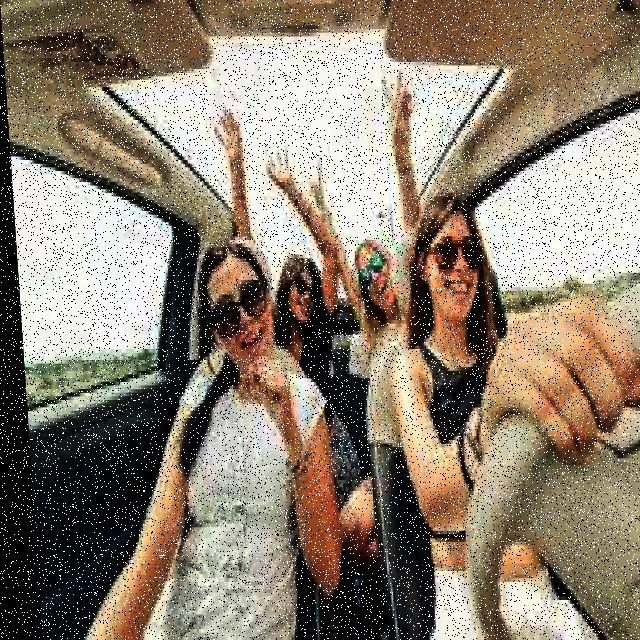noSeatbelt: (138, 333, 322, 640)
